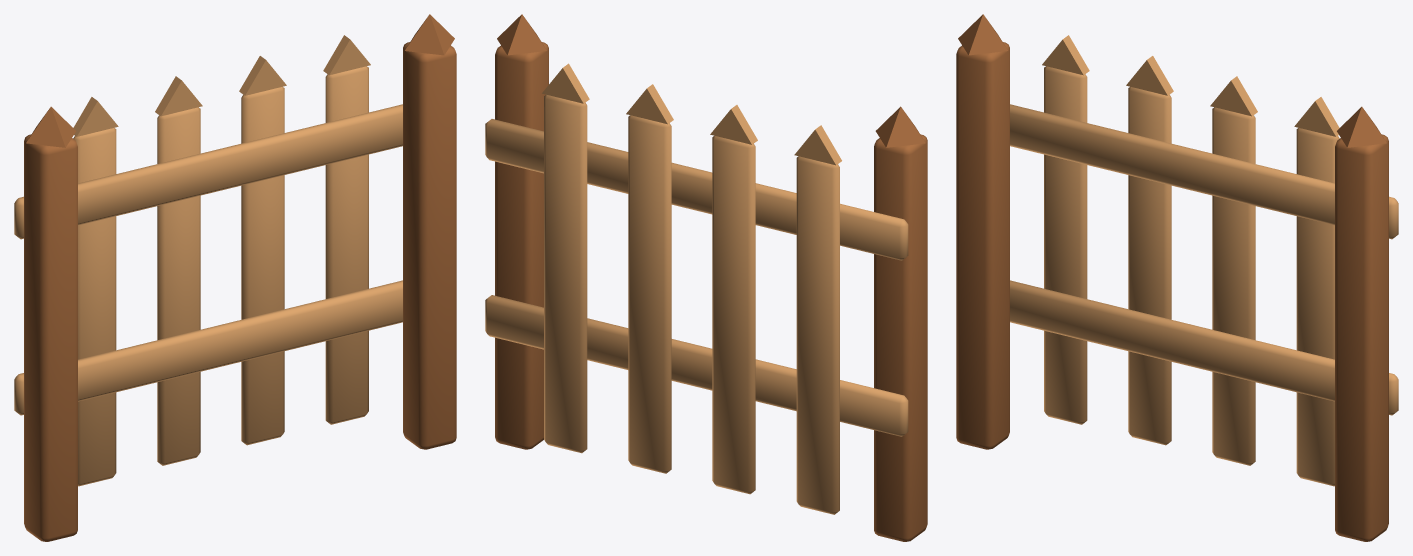
Rendered from cerca_madeira.glb.
3 views of the same model, side by side, from view 1: azimuth 30°, elevation 25°; view 2: azimuth 150°, elevation 25°; view 3: azimuth 330°, elevation 25° (orthographic).
Visible parts, largest first — view 1: Cerca_Madeira; view 2: Cerca_Madeira; view 3: Cerca_Madeira.
Part boxes in pixels (x1,y1,x2,y2): Cerca_Madeira: [14, 14, 456, 541]; Cerca_Madeira: [485, 14, 927, 541]; Cerca_Madeira: [956, 14, 1398, 541].
Size of the model in its own units: 1.02 by 0.97 by 0.1525.
